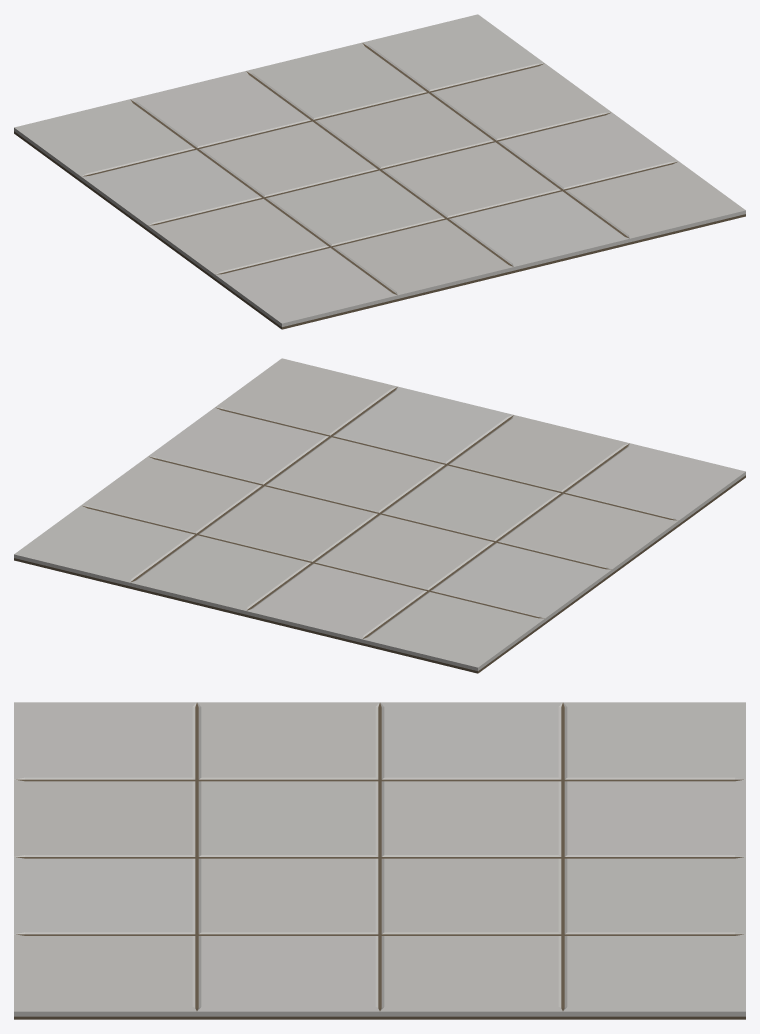
The model's file is promenade-paving-tile-5656ce.glb.
3 views of the same model, one above another, from view 1: azimuth 30°, elevation 25°; view 2: azimuth 150°, elevation 25°; view 3: azimuth 270°, elevation 25° (orthographic). The views are drawn at different scales.
Parts seen in each view (by area): view 1: paving; view 2: paving; view 3: paving.
Boxes of the visible parts, x1,y1,x2,y2 form: paving: (14,14,745,329); paving: (14,358,745,673); paving: (14,702,745,1019).
Size of the model in its own units: 4 by 0.05 by 4.
